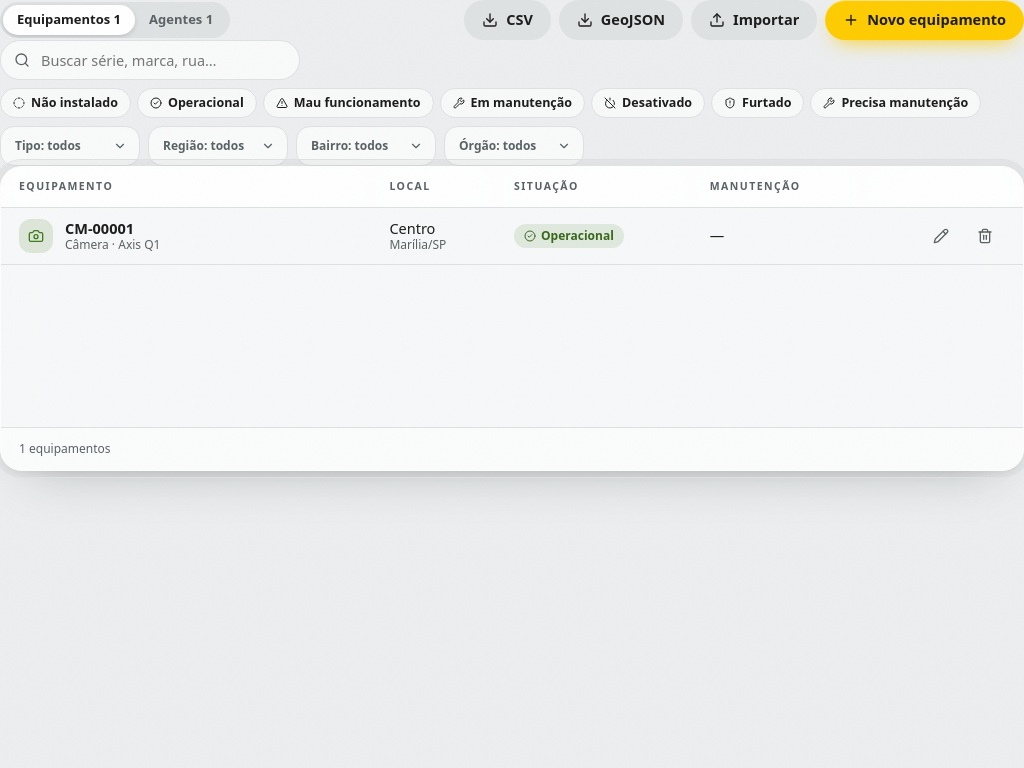
Scenario: Inventário: CRUD › mostra o erro da API (409) e mantém o formulário aberto
This screenshot has width=1024, height=768.
Click the button named "Editar CM-00001": [941, 236] box [921, 216, 961, 256]
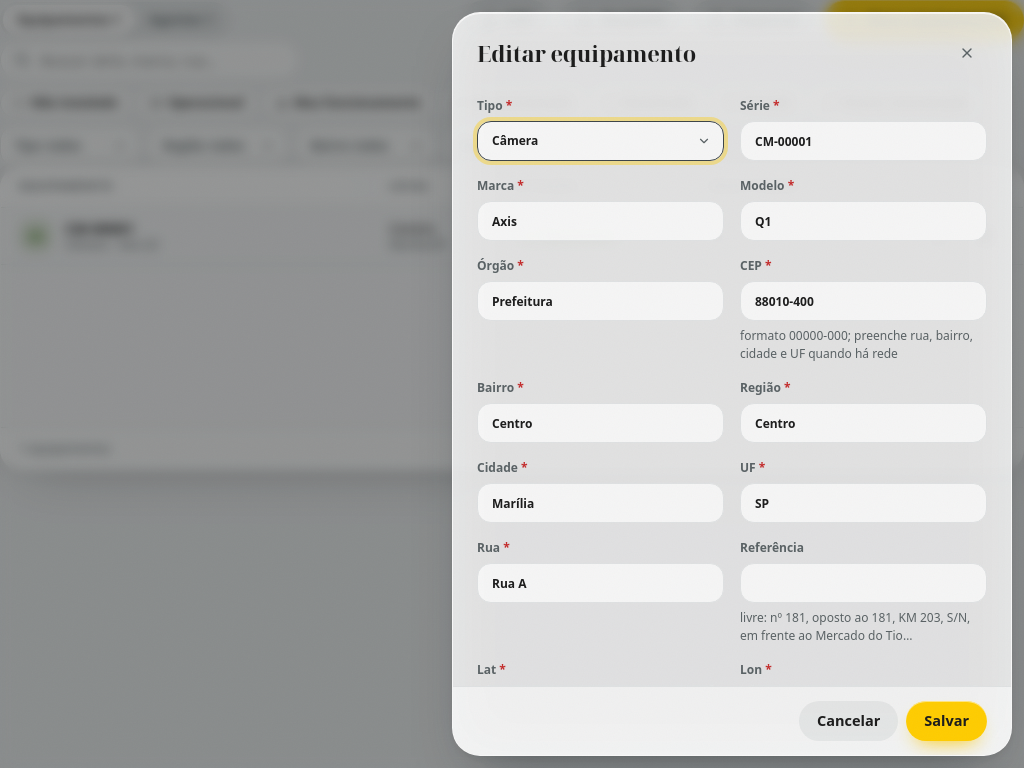
Click the button "Salvar": [947, 721] box [906, 701, 987, 741]
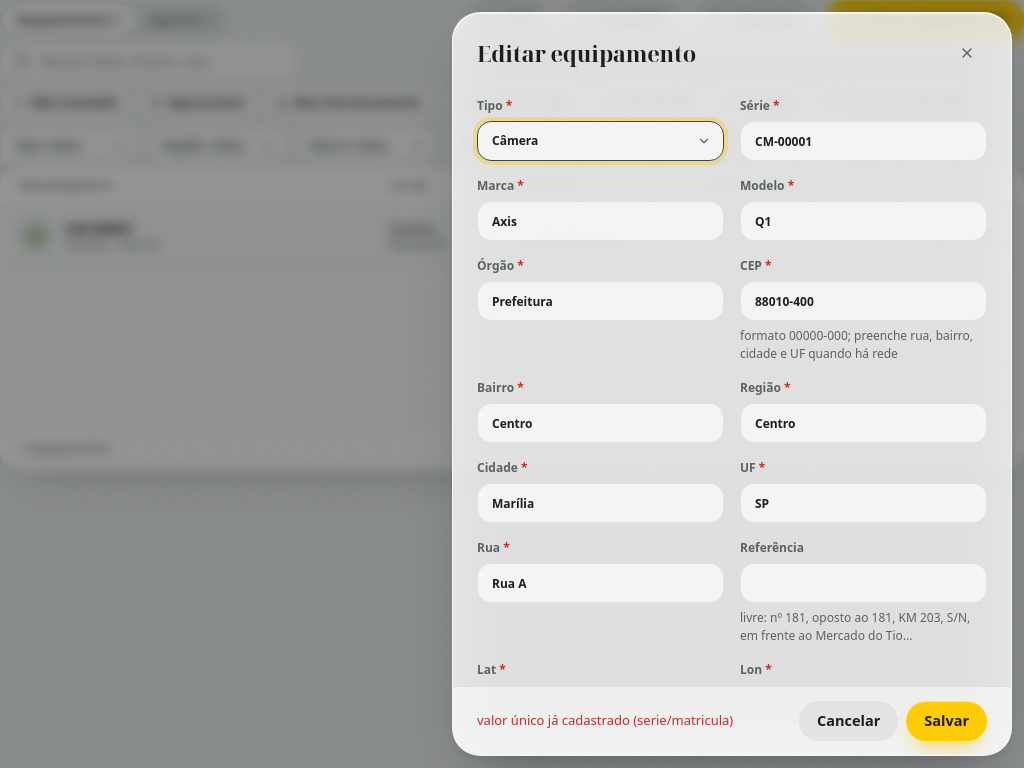
expect the dialog "Editar equipamento" is shown: met, box [452, 12, 1012, 756]
expect the message shows "já cadastrado": met, box [477, 711, 733, 729]
